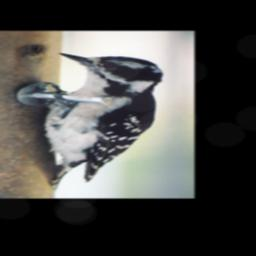Woodpecker: (36, 53, 164, 190)
